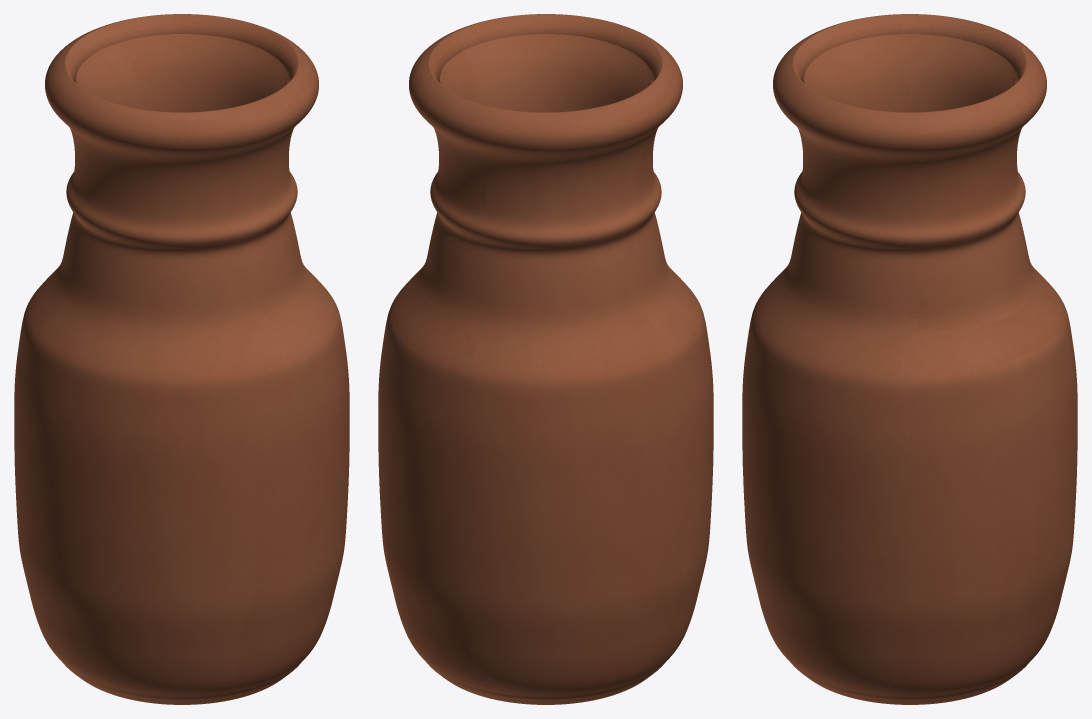
3 views of the same model, side by side, from view 1: azimuth 30°, elevation 25°; view 2: azimuth 150°, elevation 25°; view 3: azimuth 270°, elevation 25° (orthographic).
Visible parts, largest first — view 1: Cube; view 2: Cube; view 3: Cube.
Part boxes in pixels (bbox=[...]): Cube: bbox=[14, 14, 349, 704]; Cube: bbox=[378, 14, 713, 704]; Cube: bbox=[742, 14, 1077, 704].
Size of the model in its own units: 2.04 by 4.01 by 2.04.
1 material, 1 textured.
